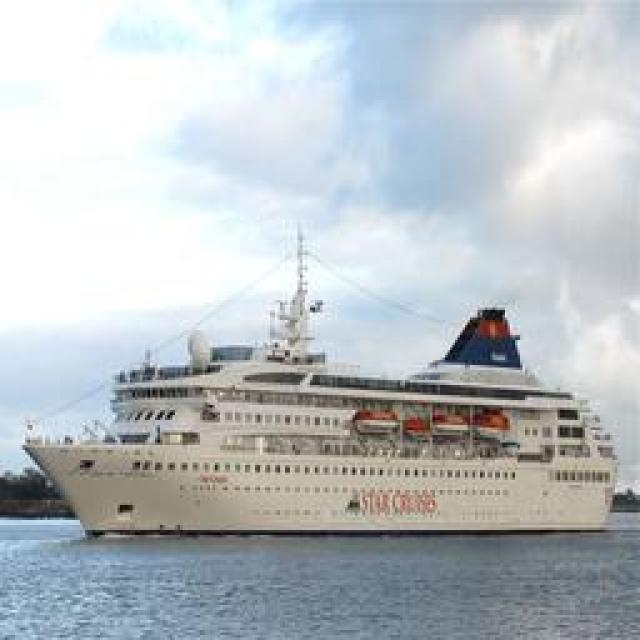CIV_Ship: (28, 241, 632, 544)
